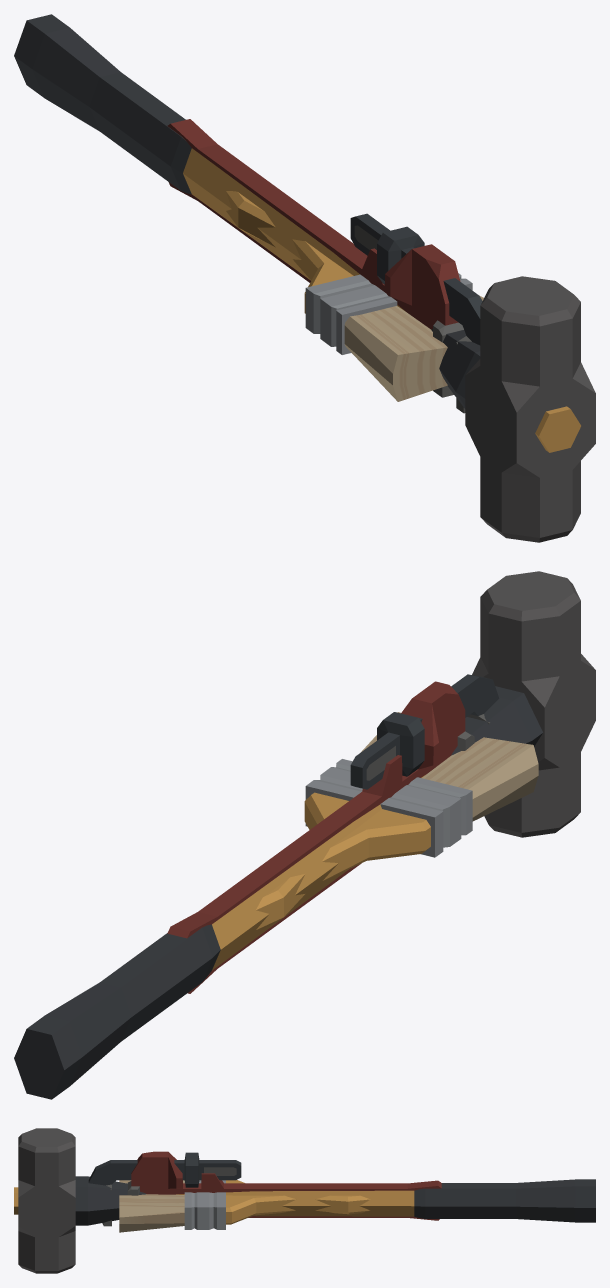
Rendered from tools.glb.
The picture shows the model from 3 angles, top to bottom: view 1: azimuth 30°, elevation 25°; view 2: azimuth 150°, elevation 25°; view 3: azimuth 270°, elevation 25°; orthographic projection. The views are drawn at different scales.
Visible parts, largest first — view 1: SM_Tool_Hammer_Sledge, SM_Tool_Pipe_Wrench_01, SM_Tool_Paint_Brush_02; view 2: SM_Tool_Hammer_Sledge, SM_Tool_Paint_Brush_02, SM_Tool_Pipe_Wrench_01; view 3: SM_Tool_Hammer_Sledge, SM_Tool_Pipe_Wrench_01, SM_Tool_Paint_Brush_02.
Boxes of the visible parts, x1=… form: SM_Tool_Hammer_Sledge: x1=14, y1=14, x2=595, y2=542; SM_Tool_Pipe_Wrench_01: x1=167, y1=119, x2=482, y2=413; SM_Tool_Paint_Brush_02: x1=226, y1=191, x2=483, y2=401; SM_Tool_Hammer_Sledge: x1=14, y1=571, x2=595, y2=1099; SM_Tool_Paint_Brush_02: x1=256, y1=712, x2=538, y2=929; SM_Tool_Pipe_Wrench_01: x1=167, y1=674, x2=499, y2=993; SM_Tool_Hammer_Sledge: x1=14, y1=1128, x2=595, y2=1273; SM_Tool_Pipe_Wrench_01: x1=88, y1=1151, x2=441, y2=1226; SM_Tool_Paint_Brush_02: x1=119, y1=1180, x2=370, y2=1232.
Bounding box in the file's own units: 0.1599 × 0.2381 × 0.9919.
3 materials, 3 textured.
